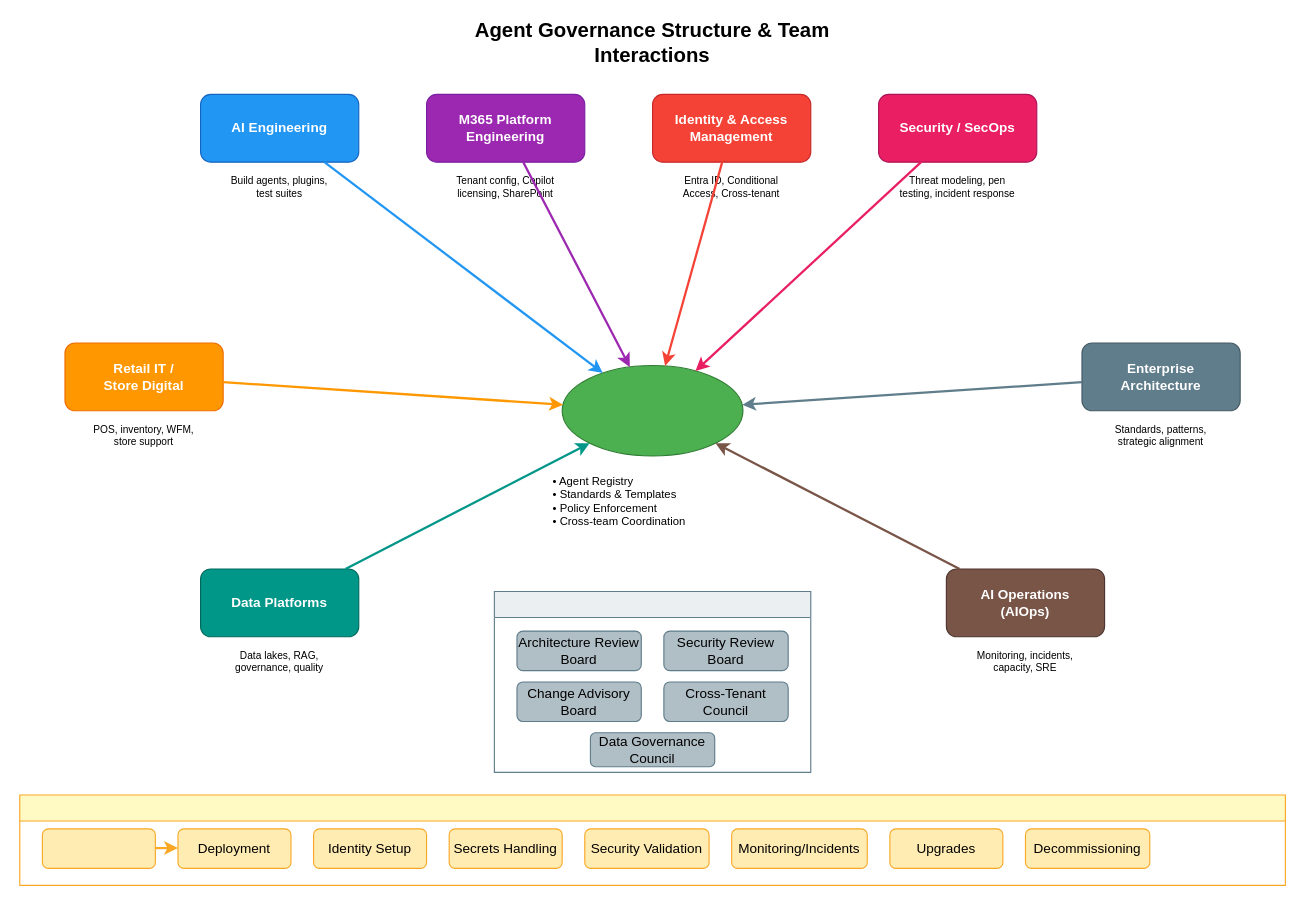
The diagram is 1305 pixels wide and 905 high, and some of its shapes have lost their labels. The shapes that lost their labels are listed below. From the top down, each one's box as (x1, y1, x2, y2) in pixels, then its label:
(561, 364, 743, 456): Agent Governance CoE
(493, 590, 811, 772): Governance Bodies
(41, 828, 155, 868): Agent Creation
(19, 794, 1285, 885): Key Workflows
